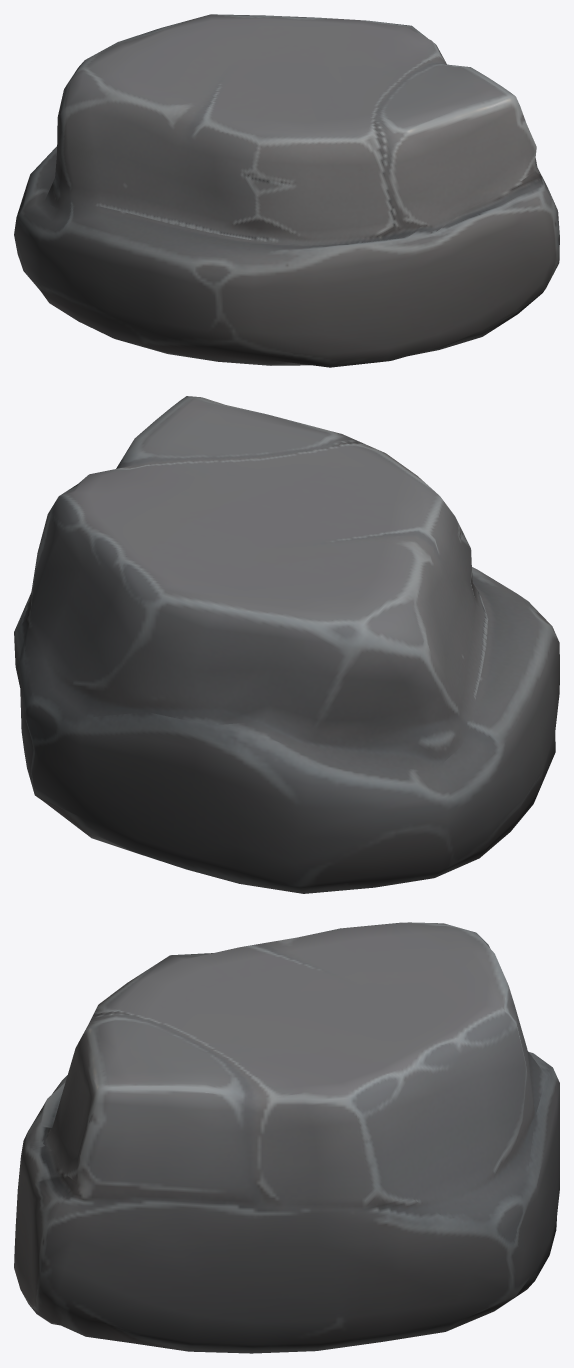
The model's file is rock_sticking_out_002.fbx.
The picture shows the model from 3 angles, top to bottom: view 1: azimuth 30°, elevation 25°; view 2: azimuth 150°, elevation 25°; view 3: azimuth 270°, elevation 25°; orthographic projection. The views are drawn at different scales.
Parts seen in each view (by area): view 1: rock_sticking_out_002; view 2: rock_sticking_out_002; view 3: rock_sticking_out_002.
Part boxes in pixels (x1,y1,x2,y2): rock_sticking_out_002: (14,14,559,367); rock_sticking_out_002: (14,396,559,893); rock_sticking_out_002: (14,922,559,1353).
Size of the model in its own units: 2.69 by 1.41 by 2.69.
